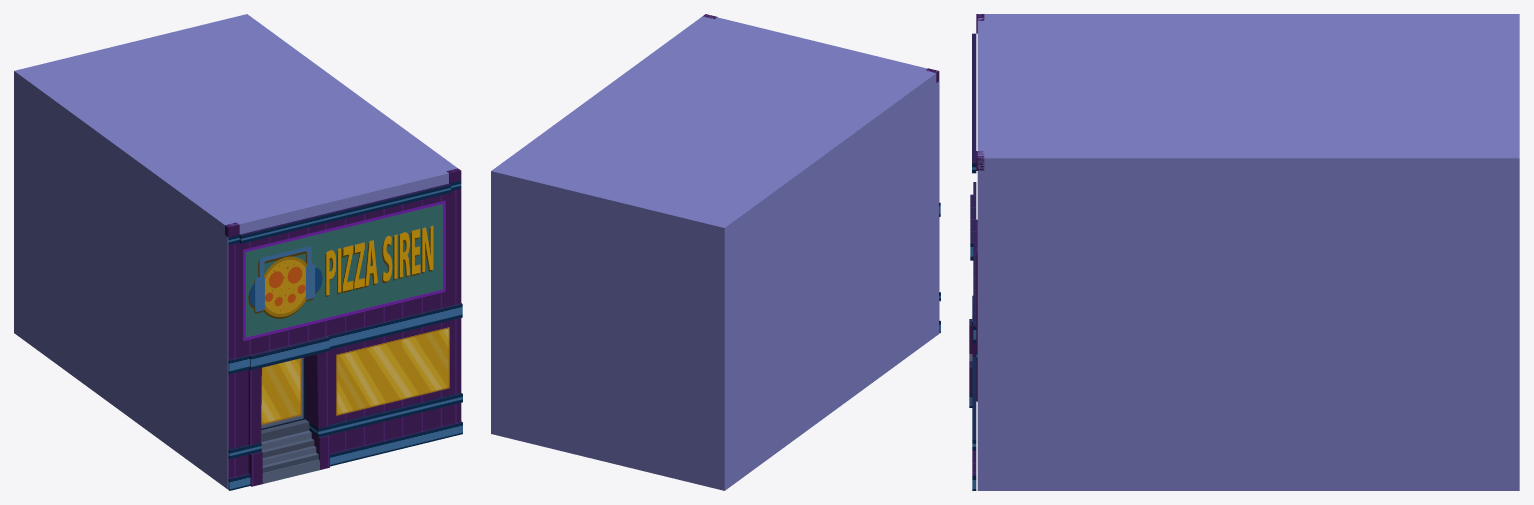
The model's file is ZachBldg4.fbx.
3 views of the same model, side by side, from view 1: azimuth 30°, elevation 25°; view 2: azimuth 150°, elevation 25°; view 3: azimuth 270°, elevation 25° (orthographic). The views are drawn at different scales.
Parts seen in each view (by area): view 1: Inside_Building6, B4:med_building_4:pPlane15; view 2: Inside_Building6; view 3: Inside_Building6, B4:med_building_4:pPlane15.
Boxes of the visible parts, x1,y1,x2,y2 form: Inside_Building6: [14, 14, 457, 489]; B4:med_building_4:pPlane15: [225, 168, 462, 490]; Inside_Building6: [491, 15, 938, 490]; Inside_Building6: [977, 14, 1519, 490]; B4:med_building_4:pPlane15: [969, 14, 984, 490].
Size of the model in its own units: 5.14 by 5.52 by 8.28.
Materials: 2 (1 with a texture image).
